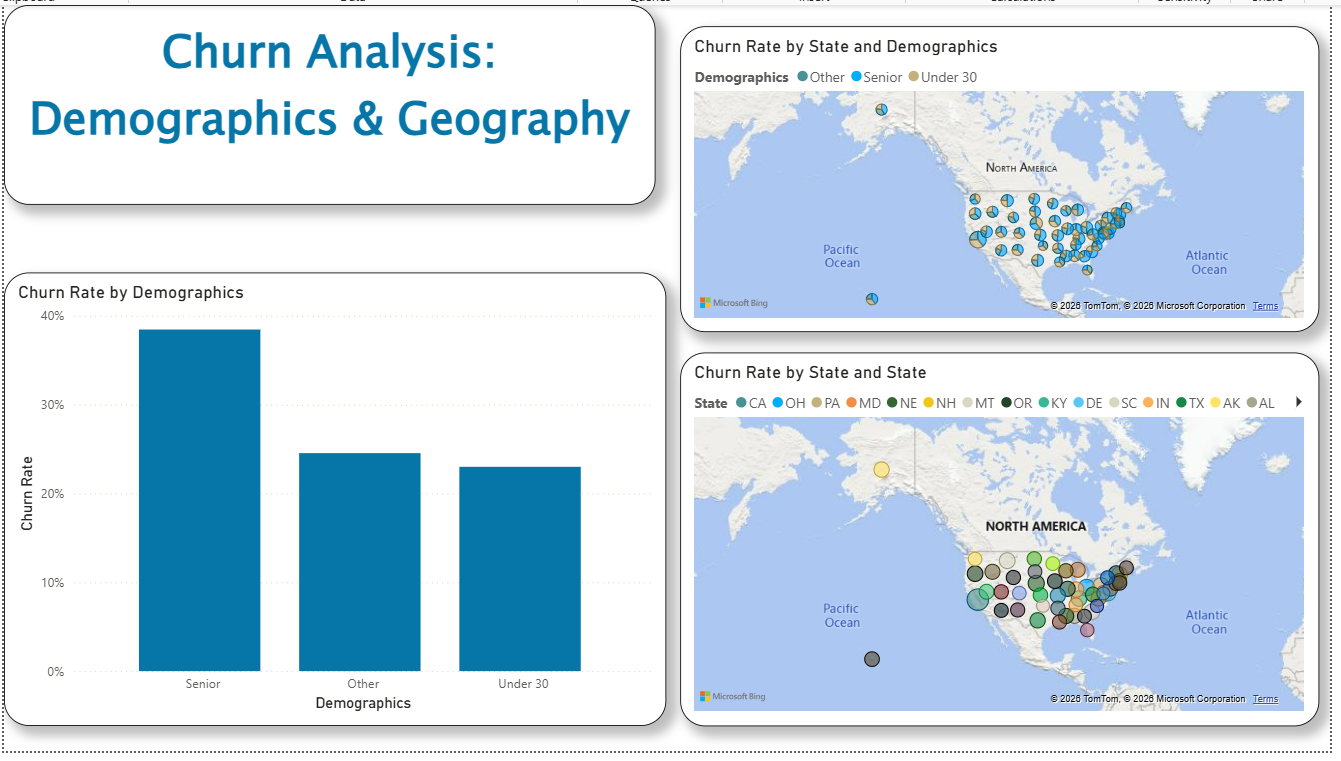

The dashboard page shown, as its layout file describes it:
{"tool":"powerbi","page":{"name":"Churn Rate by demographics & state","canvas":[1280,720],"ordinal":3},"visuals":[{"type":"clusteredColumnChart","fields":{"Category":["Databel - Data.Demographics"],"Y":["_Calculations.Churn Rate"]},"box":[0,258.2,639.4,437.9],"z":0},{"type":"map","fields":{"Category":["Databel - Data.State"],"Series":["Databel - Data.State"],"Size":["_Calculations.Churn Rate"]},"box":[652.7,335.4,616.5,360.7],"z":1000},{"type":"map","fields":{"Category":["Databel - Data.State","Databel - Data.Demographics"],"Series":["Databel - Data.Demographics"],"Size":["_Calculations.Churn Rate"]},"box":[652.7,20.5,616.5,295.6],"z":2000},{"type":"textbox","box":[0,0,628.6,193],"z":3000}]}

Visuals, with their boxes in screenshot pixels (x1, y1, x2, y2), scaled from the page's 1280x720 canvas onto the 1341x761 screenshot:
clusteredColumnChart - Databel - Data.Demographics x _Calculations.Churn Rate: 0 273 670 736
map - Databel - Data.State x Databel - Data.State: 684 354 1330 736
map - Databel - Data.State x Databel - Data.Demographics: 684 22 1330 334
textbox: 0 0 659 204
